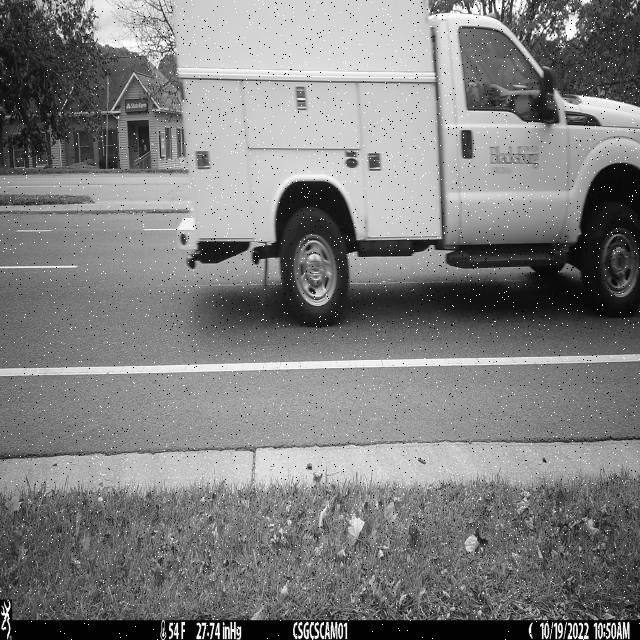Pickup- Utility: (170, 0, 640, 330)
